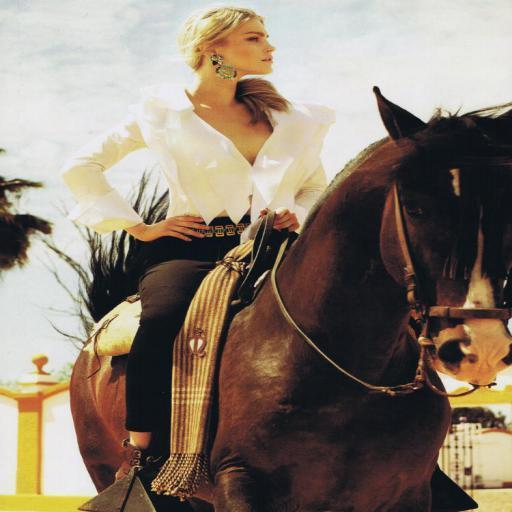horse: (32, 86, 512, 512)
